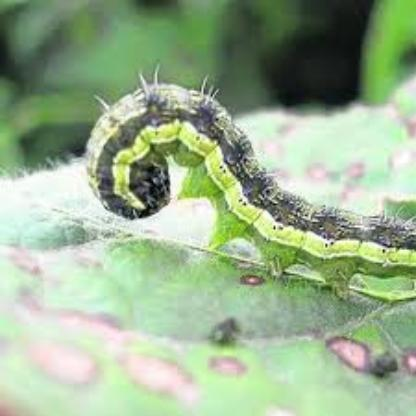oruga: (62, 75, 416, 300)
